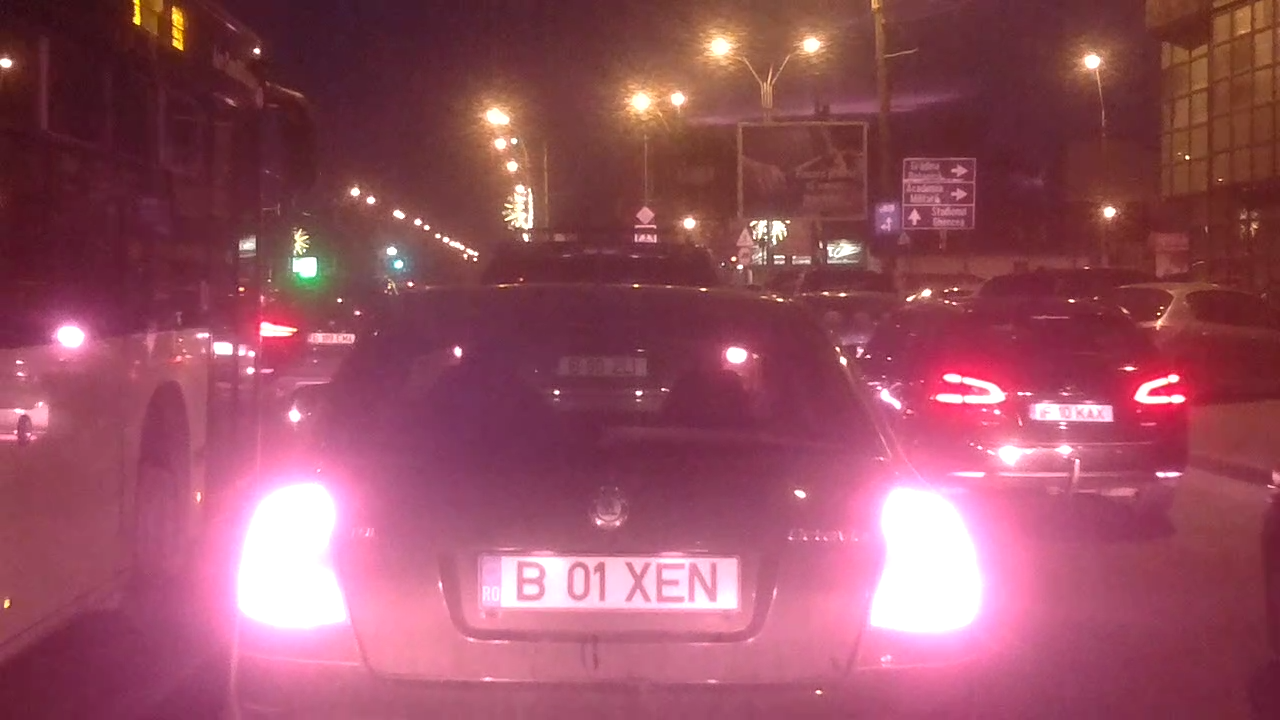license-plate: (471, 548, 745, 615), (1026, 401, 1116, 425)
